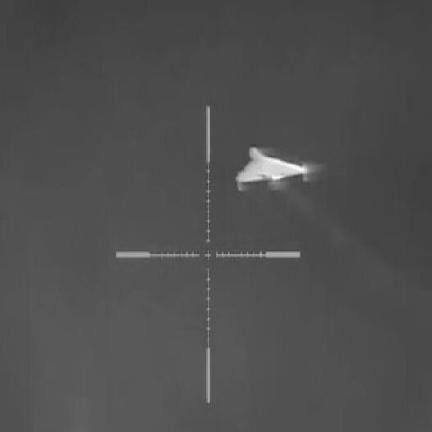Shahed: (236, 147, 319, 189)
